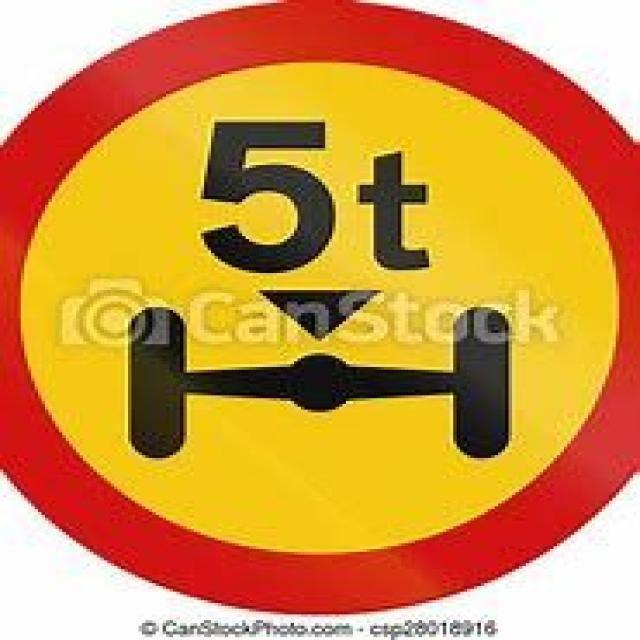axle load limit: (13, 57, 623, 557)
